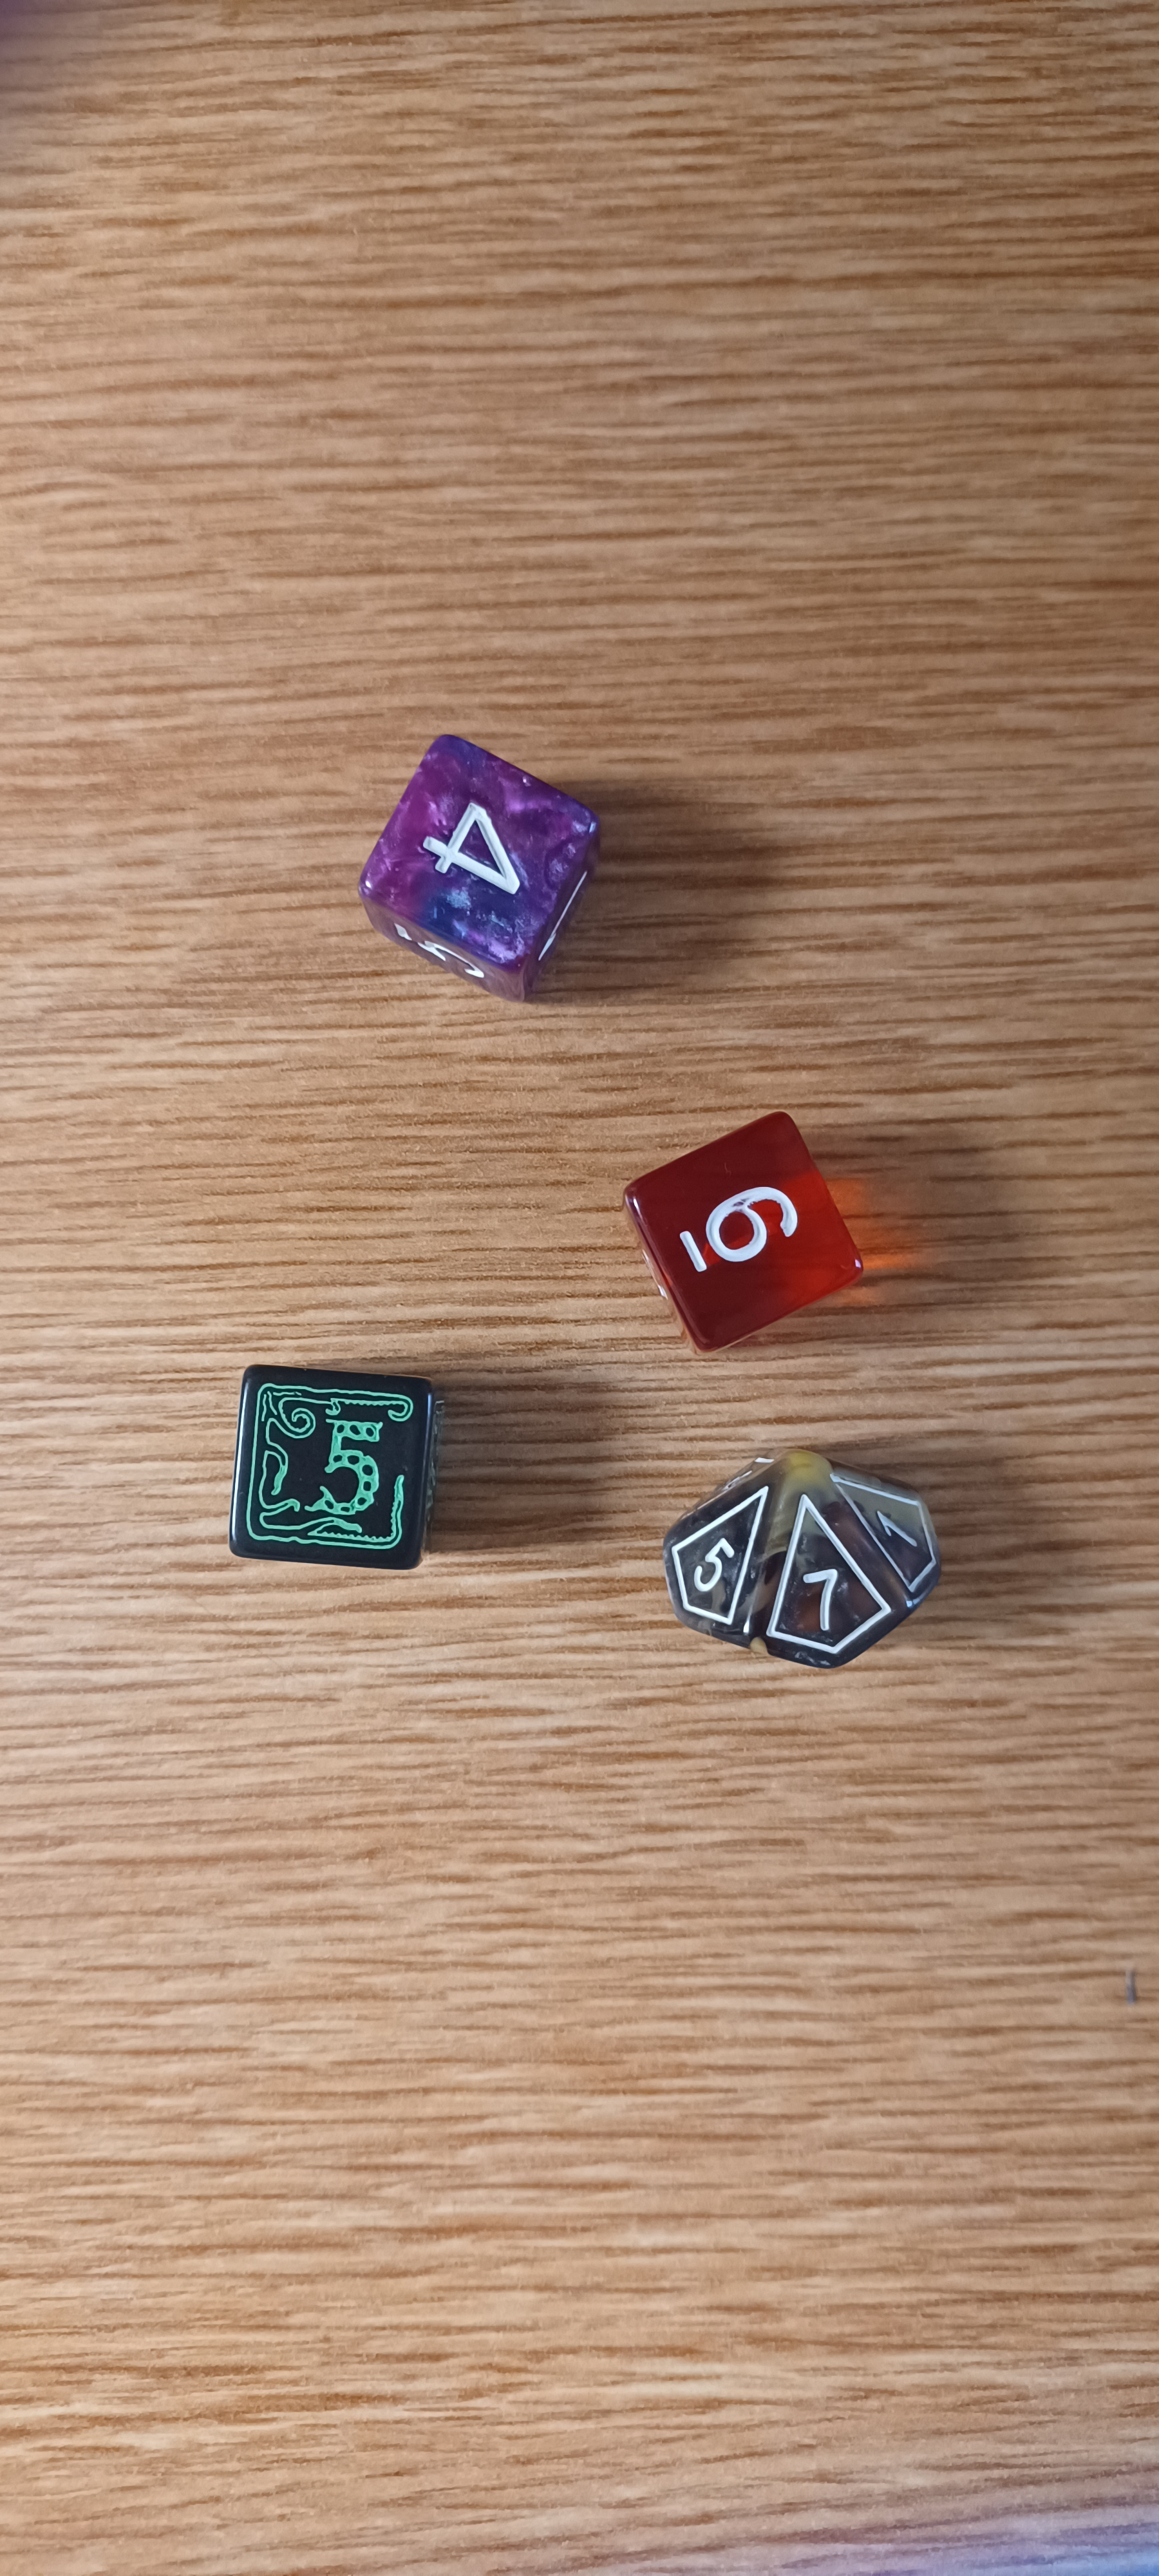five: (166, 1316, 496, 1615)
four: (332, 710, 630, 1022)
seven: (634, 1401, 1006, 1715)
six: (570, 1078, 919, 1372)
